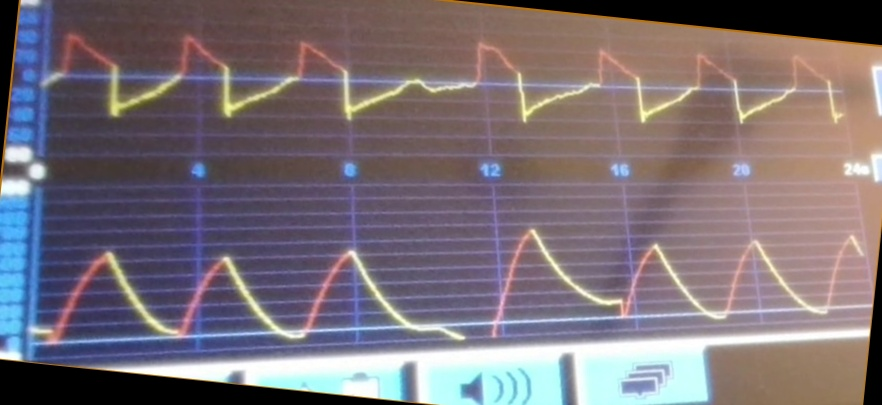Ineffective_effort Flow: (49, 27, 846, 142)
Ineffective_effort Volume: (37, 218, 866, 346)
